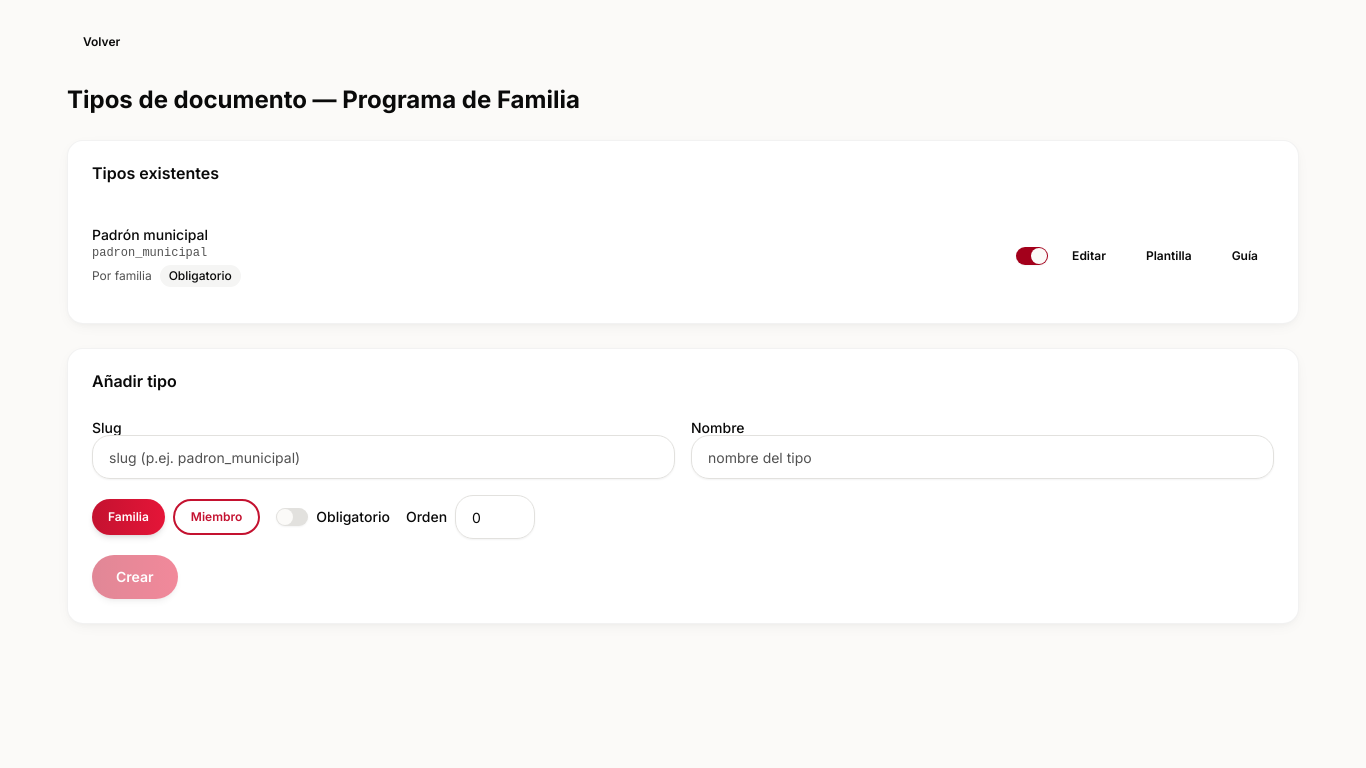
Test: ProgramaTiposDocumentoPage › Edit dialog Cancel closes without mutating
Expected: the text "Padrón municipal" is shown, [92,226,208,243]
Click the button with aria-label "Editar Padrón municipal": (1089, 256) [1056,238,1122,274]
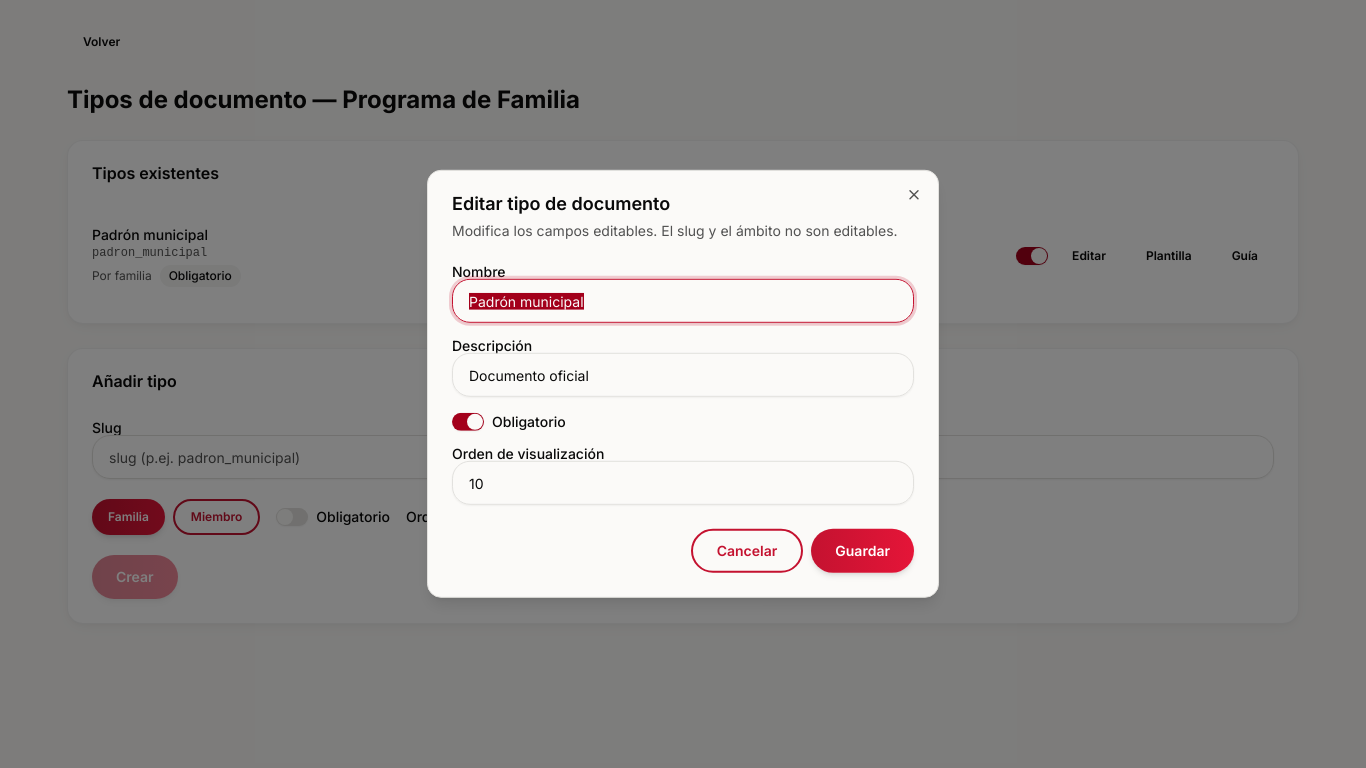
Now the dialog is shown, box [427,170,939,598]
Click the button "Cancelar": (747, 551) [691,529,803,573]
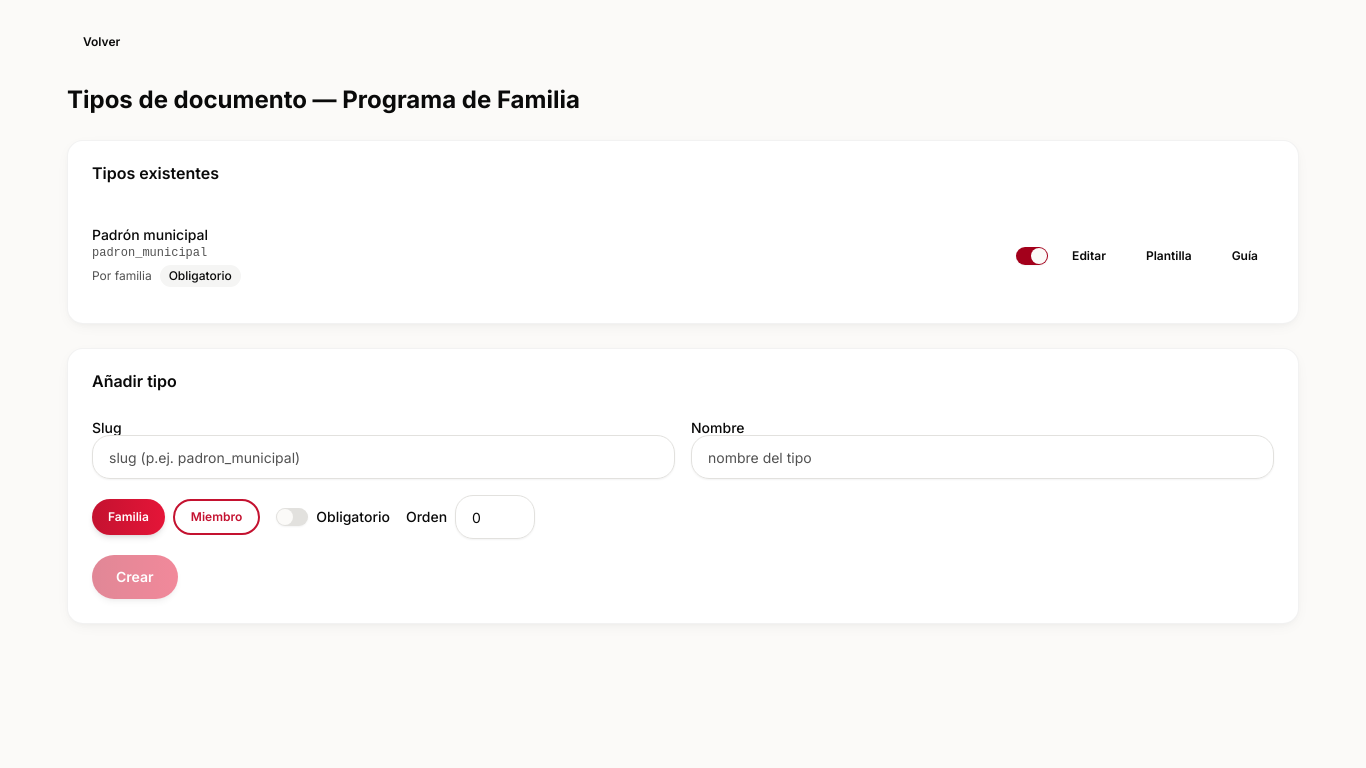
Now the dialog is gone
